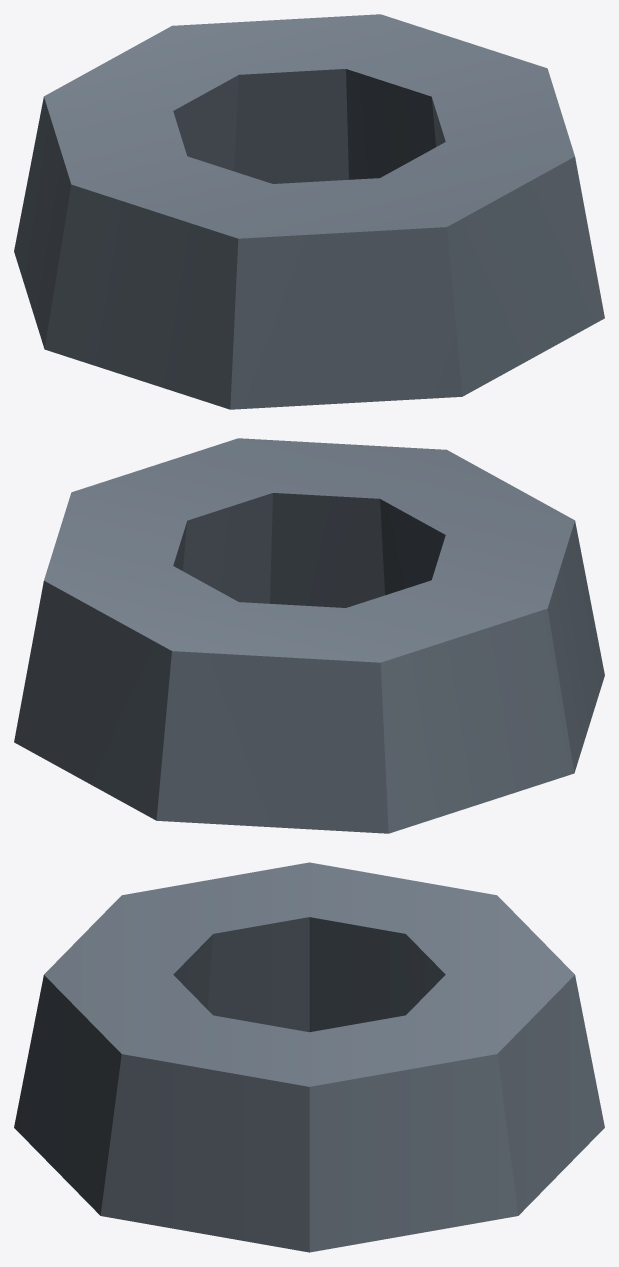
The model's file is luggnutt.fbx.
The picture shows the model from 3 angles, top to bottom: view 1: azimuth 30°, elevation 25°; view 2: azimuth 150°, elevation 25°; view 3: azimuth 270°, elevation 25°; orthographic projection. The views are drawn at different scales.
Parts seen in each view (by area): view 1: lugnut; view 2: lugnut; view 3: lugnut.
Part boxes in pixels (x1,y1,x2,y2): lugnut: (14,14,604,409); lugnut: (14,438,604,833); lugnut: (14,862,604,1252).
Bounding box in the file's own units: 0.1411 × 0.0403 × 0.1411.
